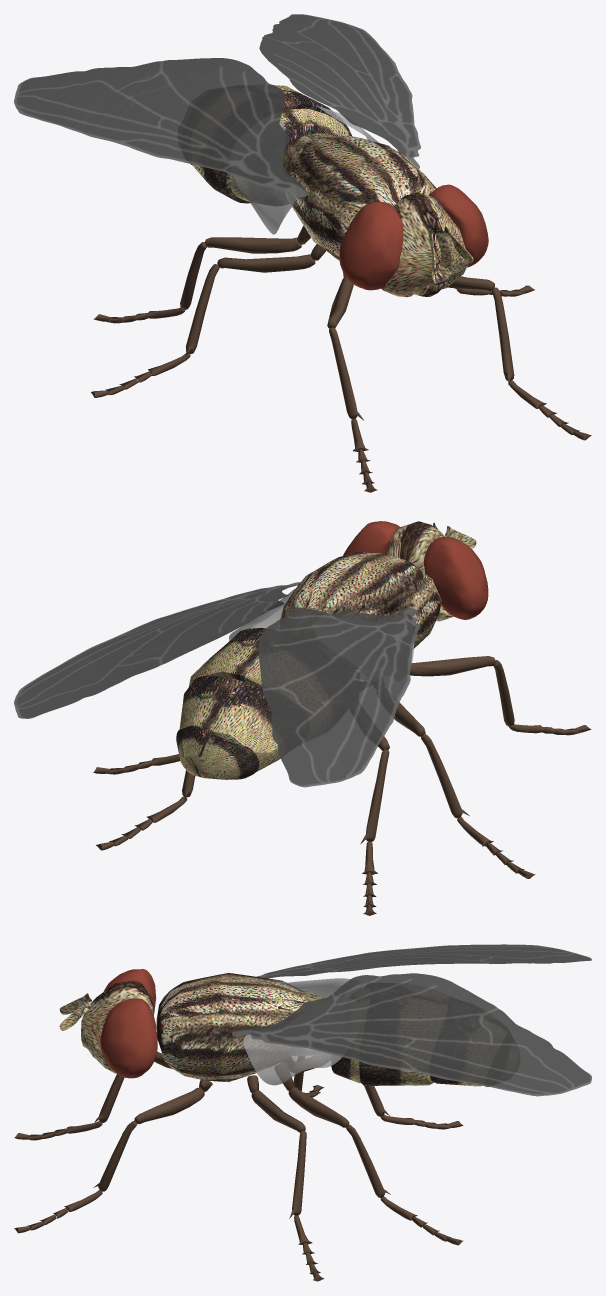
Rendered from fly_rescaled.gltf.
3 views of the same model, one above another, from view 1: azimuth 30°, elevation 25°; view 2: azimuth 150°, elevation 25°; view 3: azimuth 270°, elevation 25° (orthographic). The views are drawn at different scales.
Parts seen in each view (by area): view 1: 3DSMeshMatrix.008, 3DSMeshMatrix.007, 3DSMeshMatrix, 3DSMeshMatrix.004, 3DSMeshMatrix.003, 3DSMeshMatrix.001, 3DSMeshMatrix.002, 3DSMeshMatrix.005, 3DSMeshMatrix.055, 3DSMeshMatrix.015, 3DSMeshMatrix.014, 3DSMeshMatrix.030 (+3 smaller); view 2: 3DSMeshMatrix.008, 3DSMeshMatrix.007, 3DSMeshMatrix.001, 3DSMeshMatrix, 3DSMeshMatrix.003, 3DSMeshMatrix.004, 3DSMeshMatrix.031, 3DSMeshMatrix.002, 3DSMeshMatrix.054, 3DSMeshMatrix.014, 3DSMeshMatrix.030, 3DSMeshMatrix.006; view 3: 3DSMeshMatrix.007, 3DSMeshMatrix, 3DSMeshMatrix.008, 3DSMeshMatrix.002, 3DSMeshMatrix.004, 3DSMeshMatrix.006, 3DSMeshMatrix.001, 3DSMeshMatrix.023, 3DSMeshMatrix.047, 3DSMeshMatrix.038, 3DSMeshMatrix.039, 3DSMeshMatrix.046 (+4 smaller).
Boxes of the visible parts, <box> form: 3DSMeshMatrix.008: <box>14,58,308,197</box>; 3DSMeshMatrix.007: <box>259,14,420,168</box>; 3DSMeshMatrix: <box>283,133,436,260</box>; 3DSMeshMatrix.004: <box>381,193,473,297</box>; 3DSMeshMatrix.003: <box>339,201,403,290</box>; 3DSMeshMatrix.001: <box>191,85,351,205</box>; 3DSMeshMatrix.002: <box>429,184,488,267</box>; 3DSMeshMatrix.005: <box>231,119,296,234</box>; 3DSMeshMatrix.055: <box>205,237,301,253</box>; 3DSMeshMatrix.015: <box>217,254,315,272</box>; 3DSMeshMatrix.014: <box>185,264,219,357</box>; 3DSMeshMatrix.030: <box>329,327,363,420</box>; 3DSMeshMatrix.008: <box>258,607,418,787</box>; 3DSMeshMatrix.007: <box>14,582,300,718</box>; 3DSMeshMatrix.001: <box>176,628,280,779</box>; 3DSMeshMatrix: <box>280,552,441,648</box>; 3DSMeshMatrix.003: <box>423,536,488,619</box>; 3DSMeshMatrix.004: <box>386,521,476,621</box>; 3DSMeshMatrix.031: <box>410,656,495,676</box>; 3DSMeshMatrix.002: <box>343,521,399,555</box>; 3DSMeshMatrix.054: <box>360,749,389,844</box>; 3DSMeshMatrix.014: <box>421,734,469,818</box>; 3DSMeshMatrix.030: <box>493,660,514,726</box>; 3DSMeshMatrix.006: <box>229,588,295,640</box>; 3DSMeshMatrix.007: <box>232,973,591,1096</box>; 3DSMeshMatrix: <box>156,973,324,1082</box>; 3DSMeshMatrix.008: <box>257,944,591,978</box>; 3DSMeshMatrix.002: <box>100,998,157,1078</box>; 3DSMeshMatrix.004: <box>59,981,153,1073</box>; 3DSMeshMatrix.006: <box>243,1035,341,1085</box>; 3DSMeshMatrix.001: <box>331,1055,488,1086</box>; 3DSMeshMatrix.023: <box>134,1087,204,1124</box>; 3DSMeshMatrix.047: <box>288,1087,349,1127</box>; 3DSMeshMatrix.038: <box>289,1131,306,1218</box>; 3DSMeshMatrix.039: <box>251,1090,305,1132</box>; 3DSMeshMatrix.046: <box>346,1124,390,1197</box>.
Bounding box in the file's own units: 0.4017 × 0.2097 × 0.5056.
7 materials, 6 textured.
